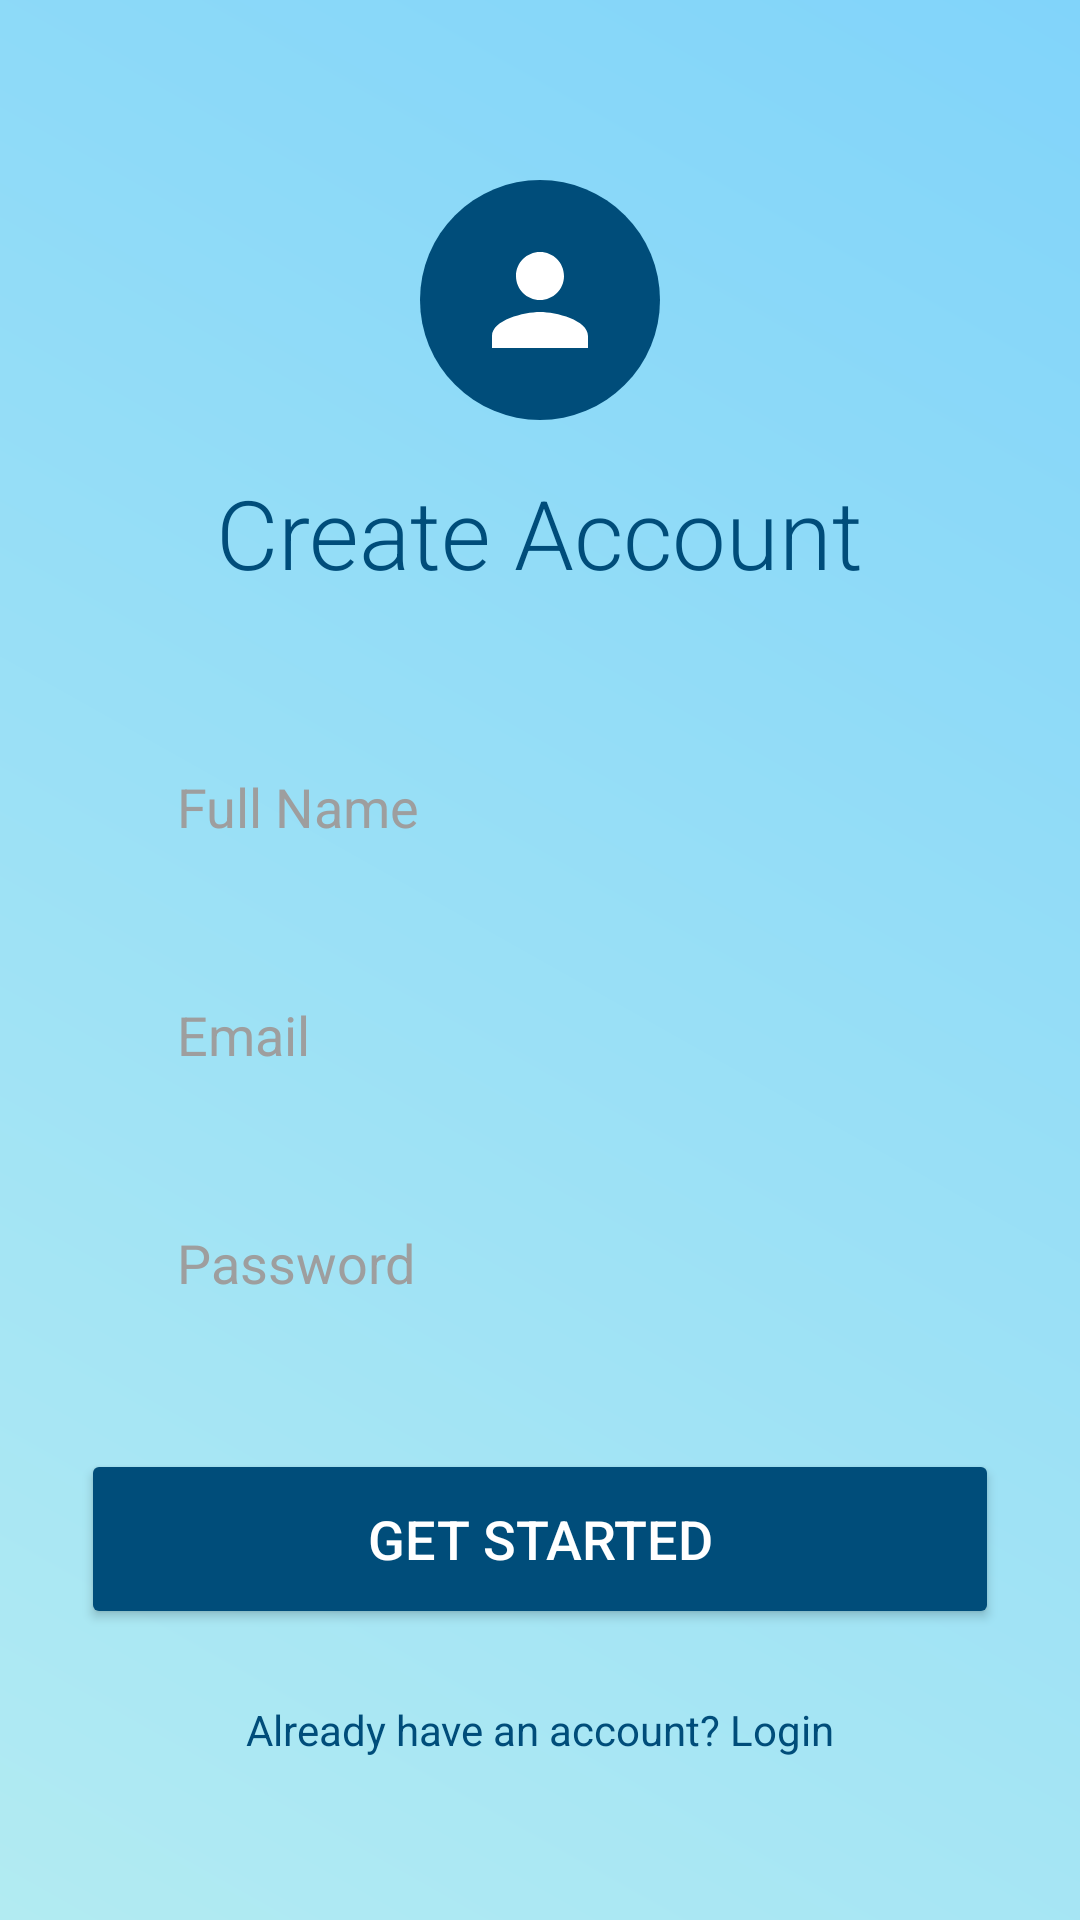

Point at icon controls on the screen. Image size 1080x1920, points as [x,y].
User Icon: [540,300]
